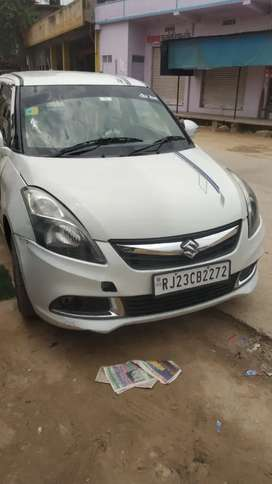RJ23CB2272: (154, 261, 229, 295)
